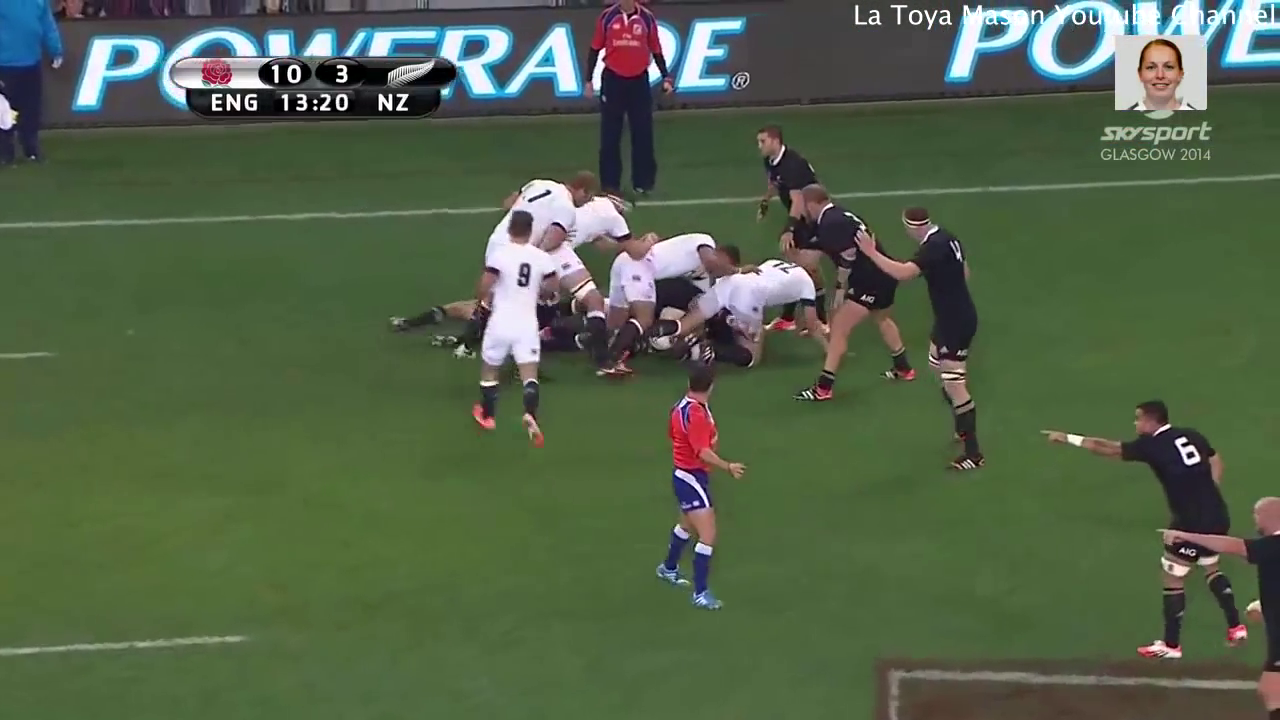player: (1045, 396, 1255, 664), (854, 200, 999, 482), (796, 186, 921, 412), (1162, 495, 1280, 720), (585, 232, 741, 377), (656, 362, 742, 614), (477, 212, 549, 457), (747, 121, 817, 236)
ruck: (484, 222, 834, 380)
